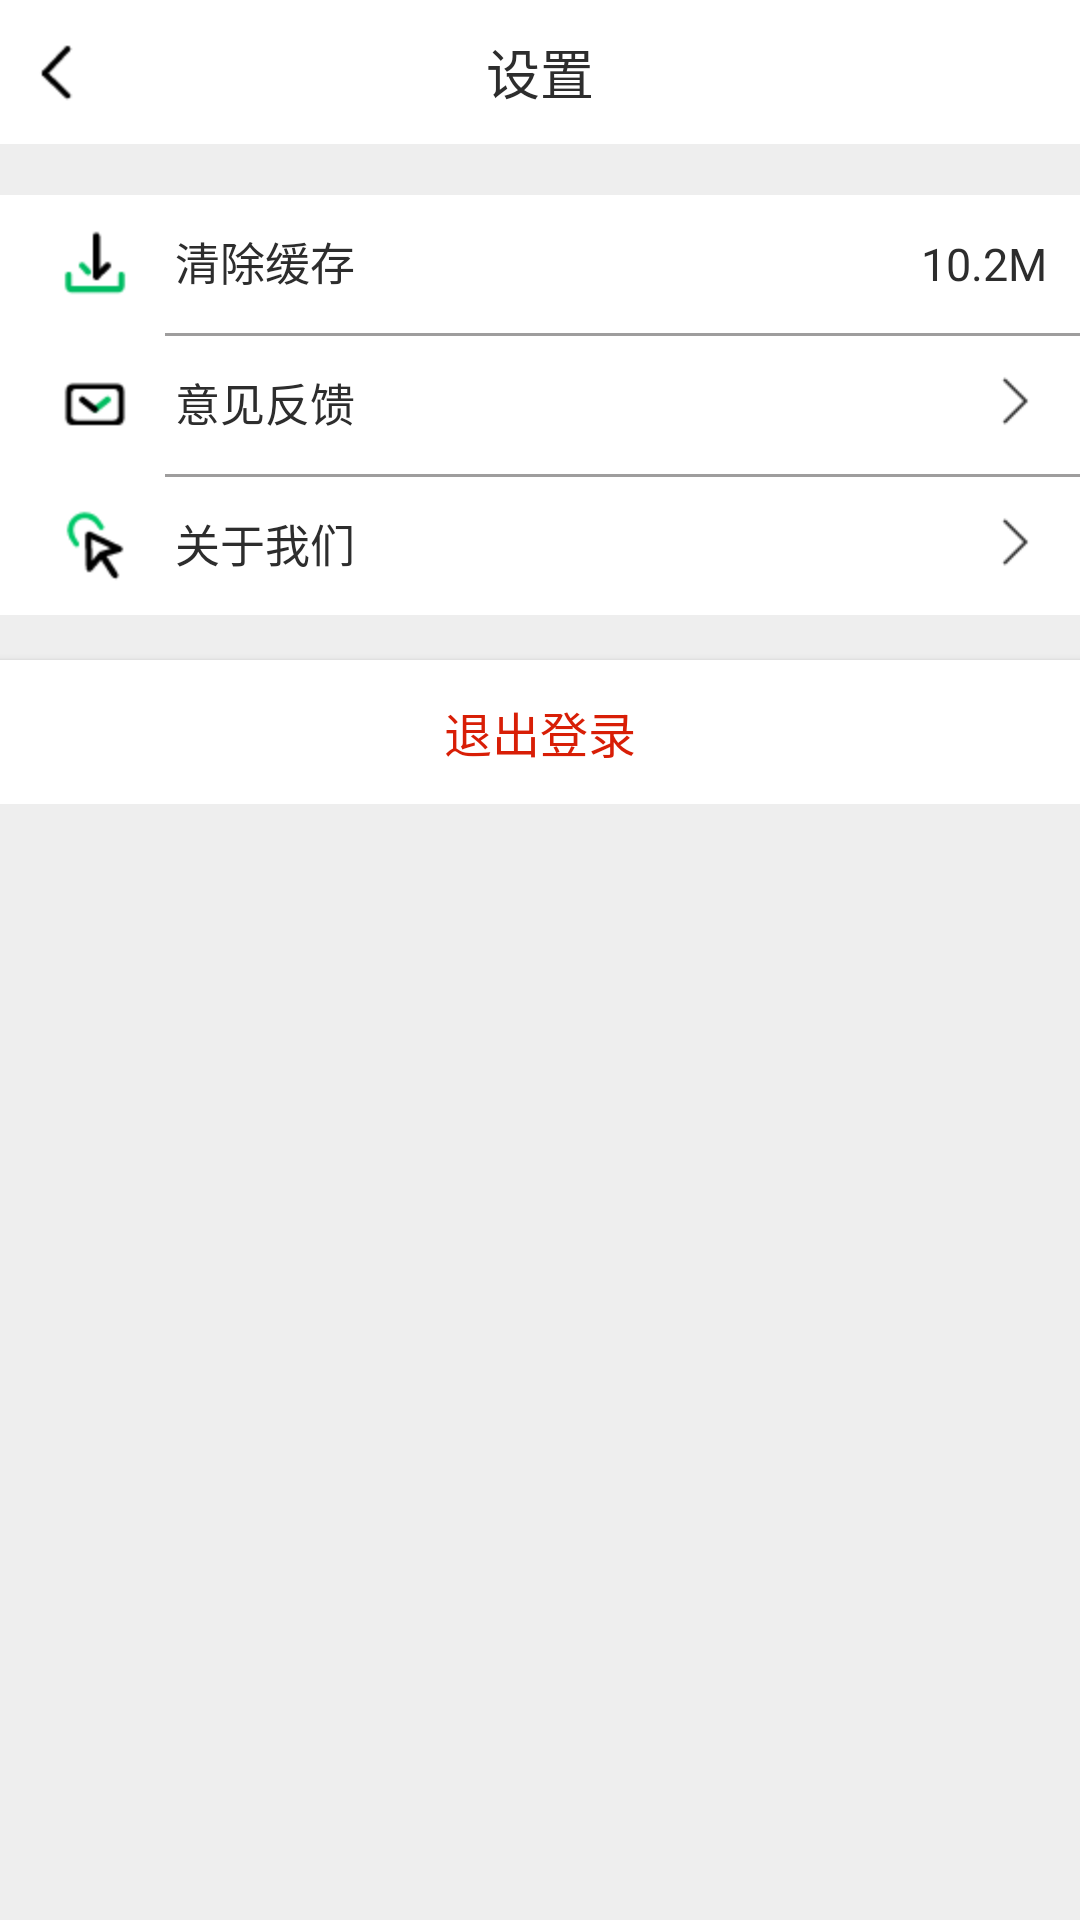

Named icons in this screenshot (1080w x 1920h) and their centers, [x,y]:
back: [56,72]
click: [95,545]
download: [95,262]
htb right: [1015,401], [1015,542]
